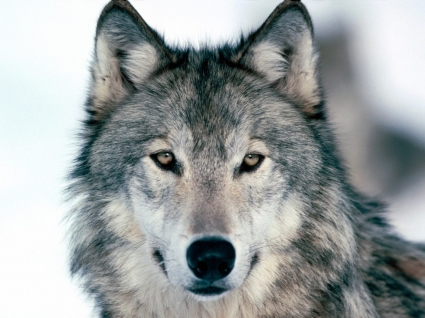Lobo: (85, 7, 352, 311)
